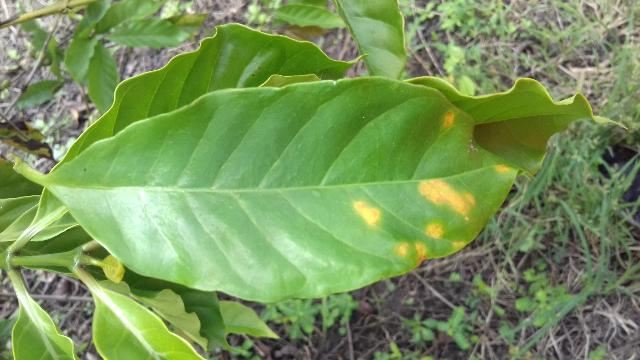rust_level_1: (38, 75, 542, 305)
